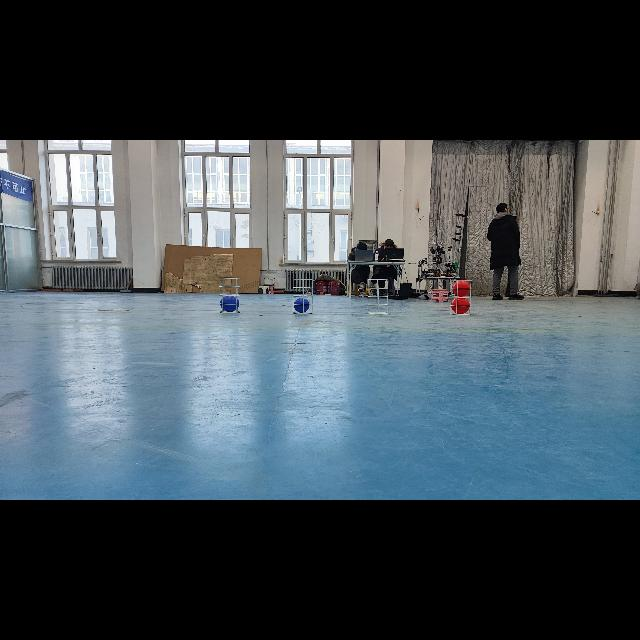B: (220, 294, 240, 312), (294, 298, 310, 314)
R: (452, 297, 471, 315), (453, 280, 471, 298)
S: (364, 276, 392, 316), (217, 274, 243, 316), (448, 277, 474, 317), (290, 276, 316, 316)
